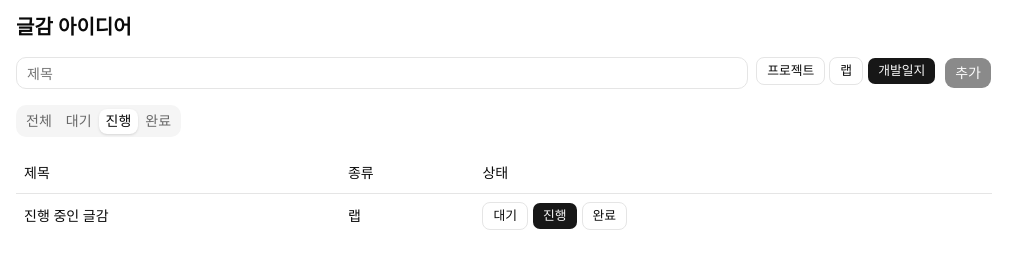
Test case: IdeasPage 상태 변경 › 경계 › 진행 탭을 보고 있을 때 글감을 '완료'로 바꾸면 재조회 결과에서 그 글감이 빠져야 한다
Expected: the text "진행 중인 글감" is shown, [16,193,340,238]
Click the button "완료": {"x": 604, "y": 216} [582,202,627,230]
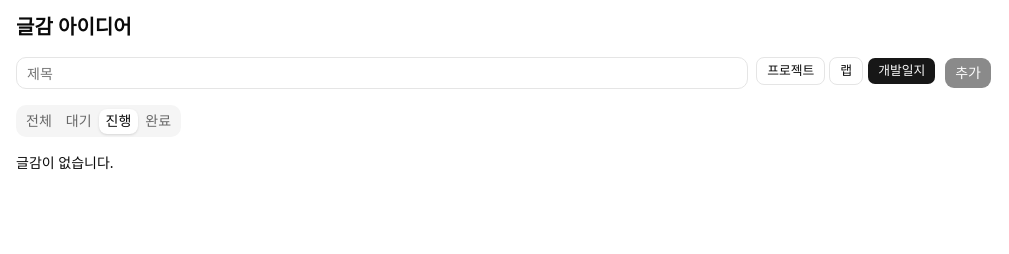
Result: the text "진행 중인 글감" is gone
